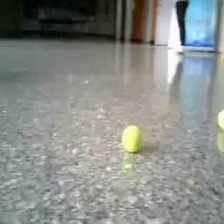tennis: (121, 124, 142, 153)
